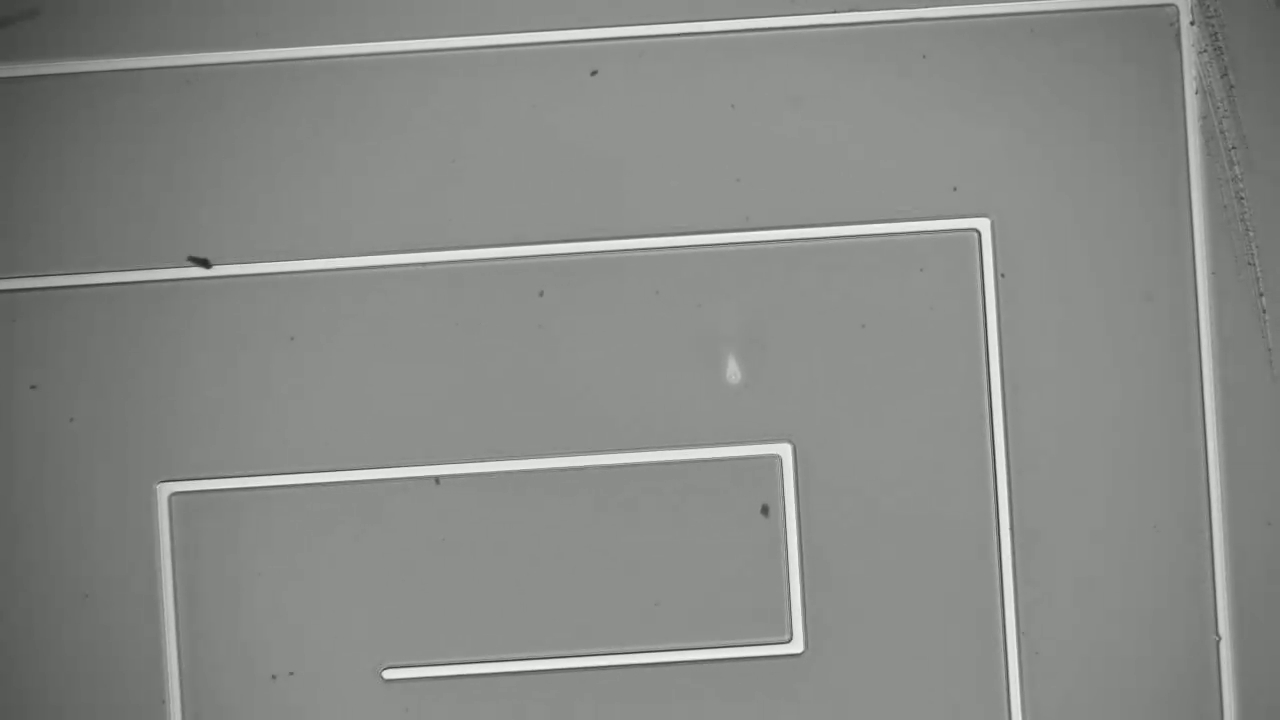stains_enbedded: (178, 251, 225, 284)
